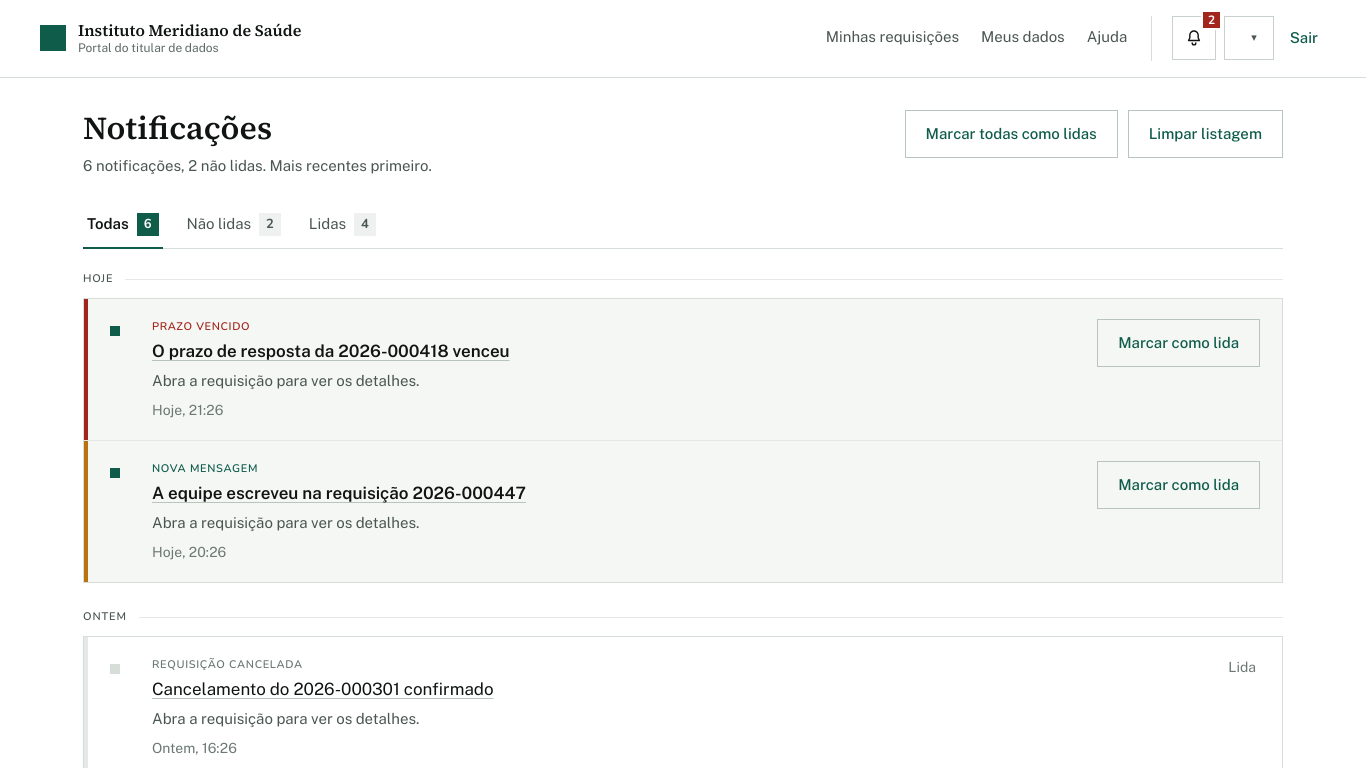
Test: NotificationsView › só limpa a listagem depois da confirmação
Click the button "Limpar listagem" at (1205, 134), box [1128, 110, 1283, 158]
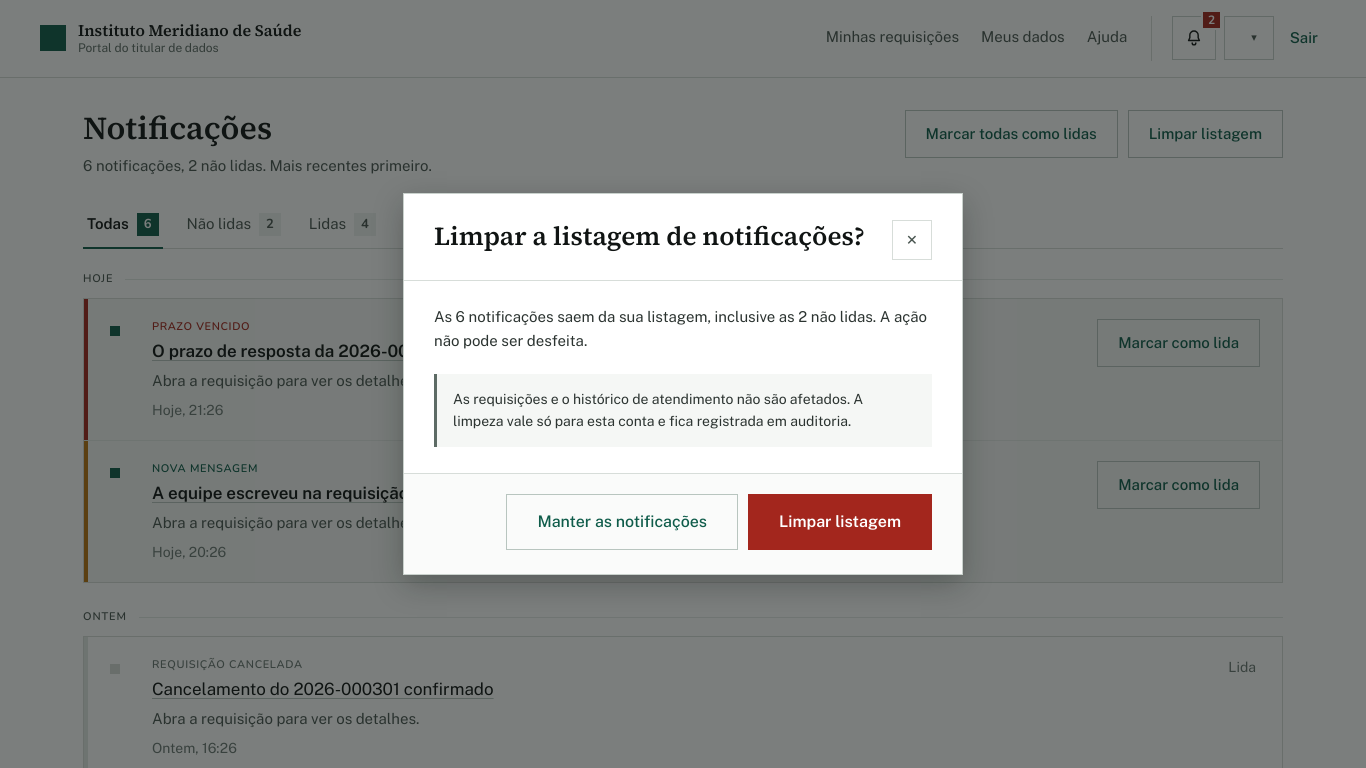
Expected: the list item is shown, [84, 299, 1282, 440]
Now the dialog shows "Limpar a listagem de notificações?", box [434, 218, 865, 254]
Click the button "Limpar listagem" at (840, 522), box [748, 494, 932, 550]
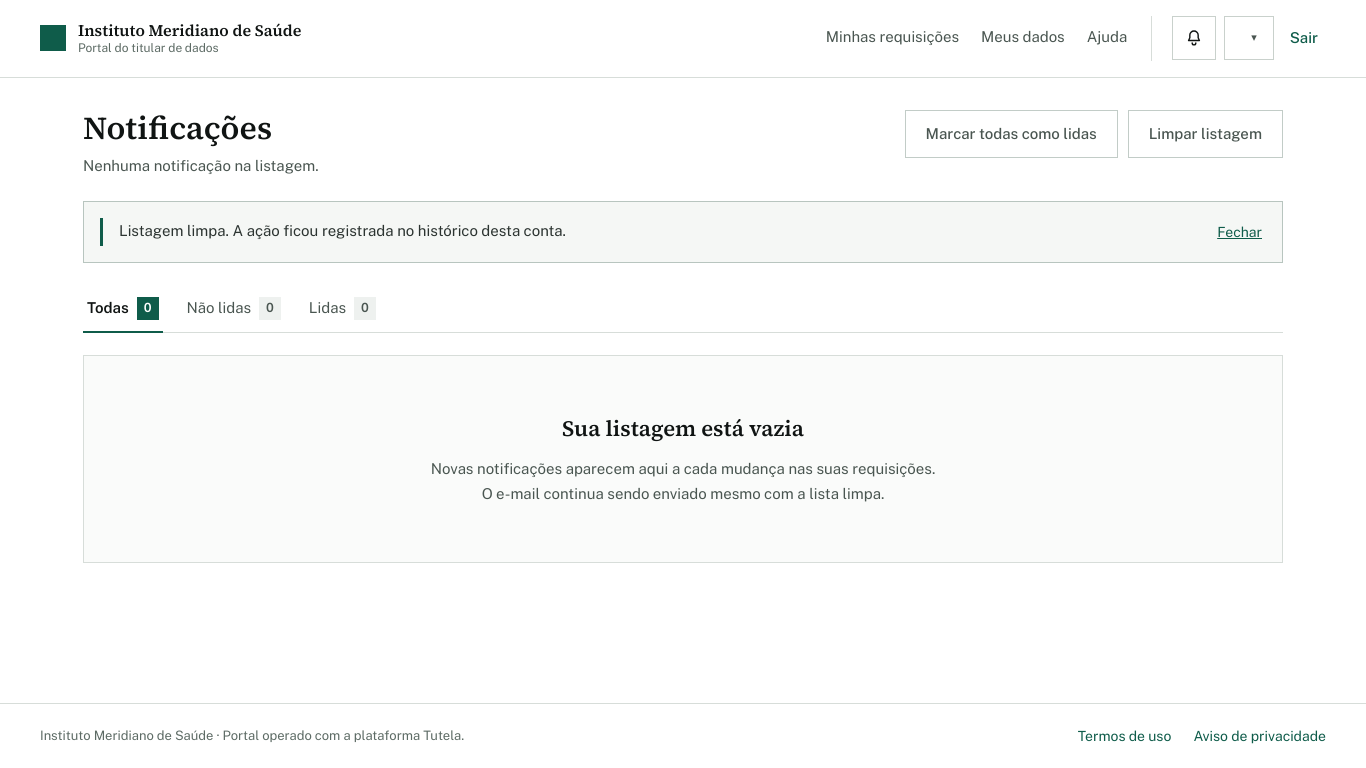
Now the text "Sua listagem está vazia" is shown, box [562, 412, 804, 445]
Now the text "Listagem limpa." is shown, box [119, 222, 566, 239]
